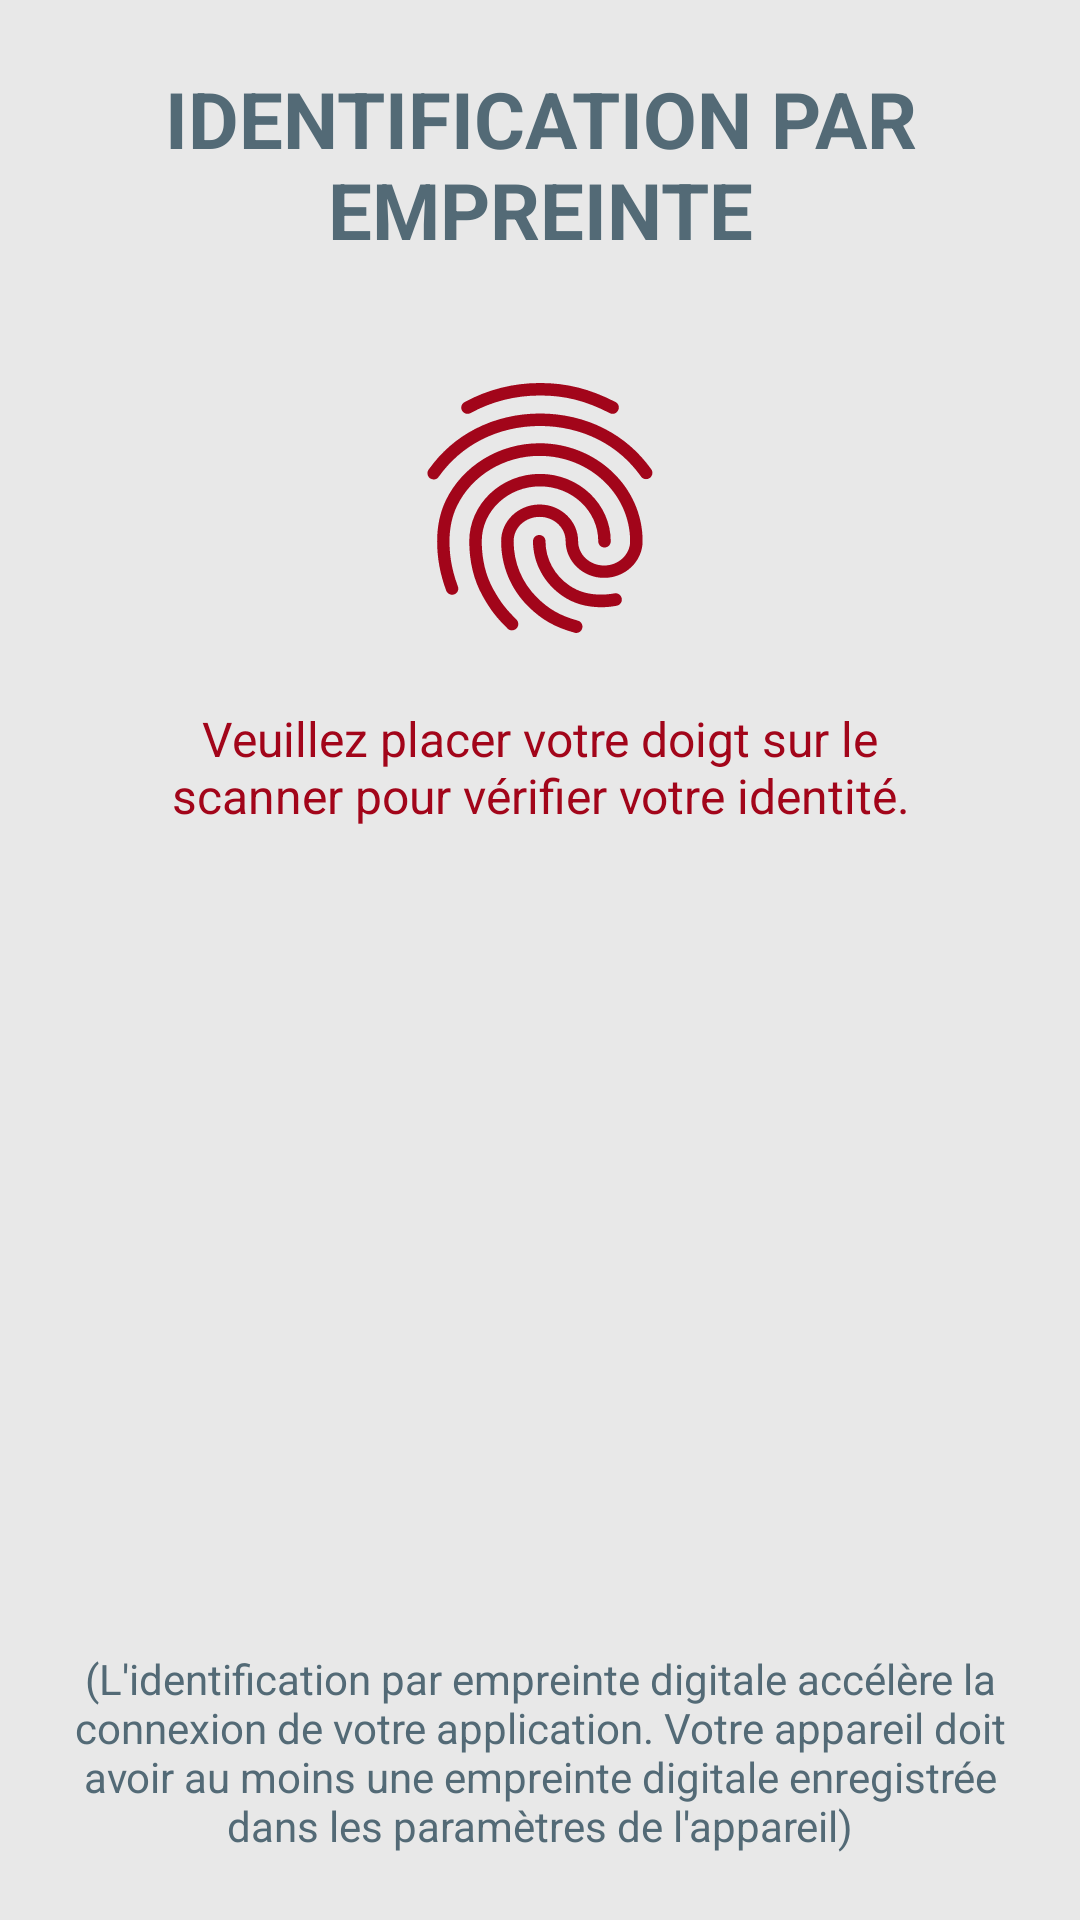

Named icons in this screenshot (1080x1920) and their centers, (x=x, y=y):
fingerprint: (x=540, y=508)
